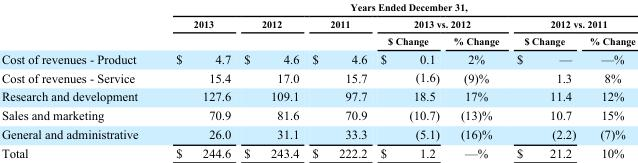table: (0, 1, 634, 160)
table column: (0, 1, 156, 160), (156, 1, 236, 160), (507, 1, 582, 160), (373, 1, 445, 160), (304, 1, 373, 160), (236, 1, 304, 160), (445, 1, 507, 160), (582, 1, 634, 160)
table column header: (0, 1, 634, 48)
table row: (0, 48, 634, 67), (0, 67, 634, 86), (0, 86, 634, 105), (0, 105, 634, 124), (0, 124, 634, 143), (0, 14, 634, 31), (0, 31, 634, 48), (0, 143, 634, 160), (0, 1, 634, 14)
table spanning cell: (156, 1, 634, 14), (156, 14, 236, 48), (304, 14, 373, 48), (236, 14, 304, 48), (373, 14, 507, 31), (507, 14, 634, 31)
